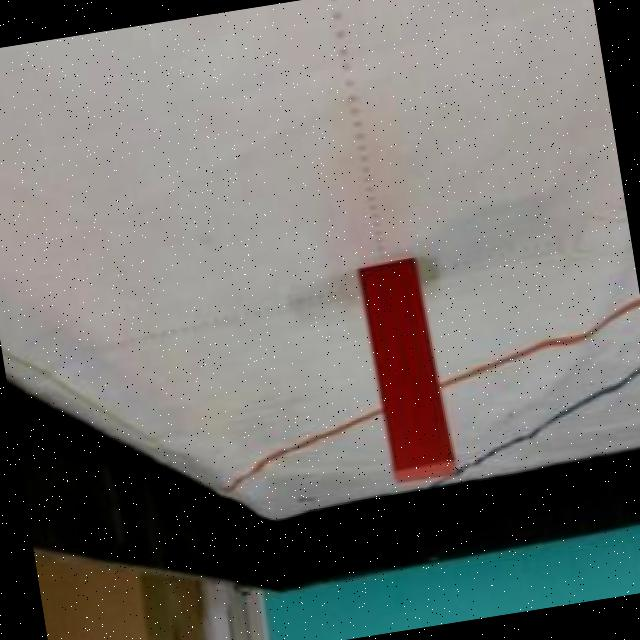redbox: (358, 255, 456, 486)
